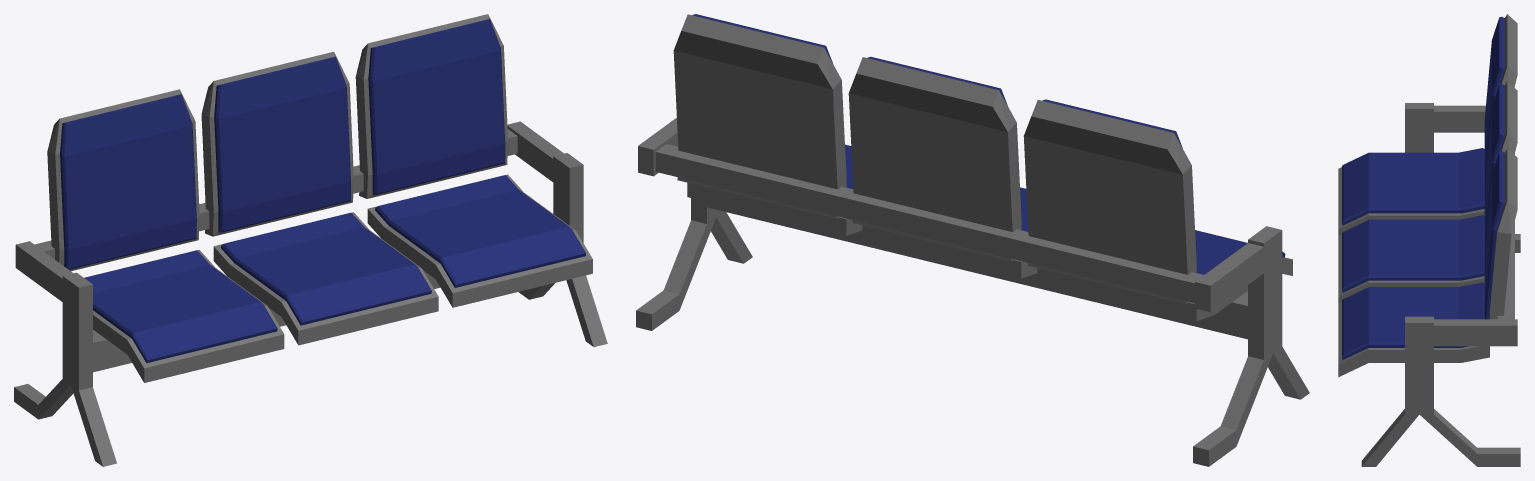
Rendered from bench1.fbx.
The picture shows the model from 3 angles, left to right: view 1: azimuth 30°, elevation 25°; view 2: azimuth 150°, elevation 25°; view 3: azimuth 270°, elevation 25°; orthographic projection. The views are drawn at different scales.
Visible parts, largest first — view 1: Cube; view 2: Cube; view 3: Cube.
Boxes of the visible parts, x1=… form: Cube: x1=14, y1=14, x2=607, y2=466; Cube: x1=636, y1=14, x2=1309, y2=466; Cube: x1=1338, y1=14, x2=1520, y2=466.
Bounding box in the file's own units: 360 × 190 × 126.
